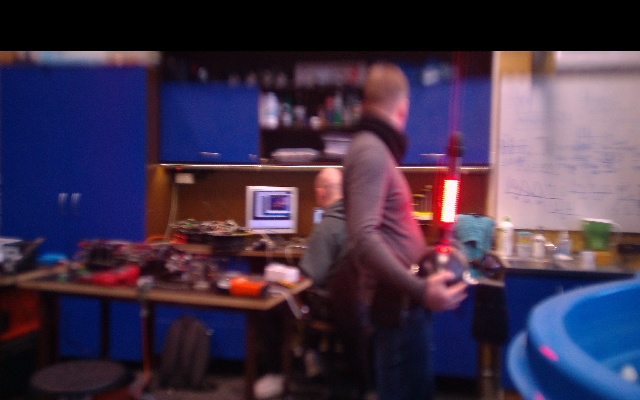red: (439, 178, 460, 228)
